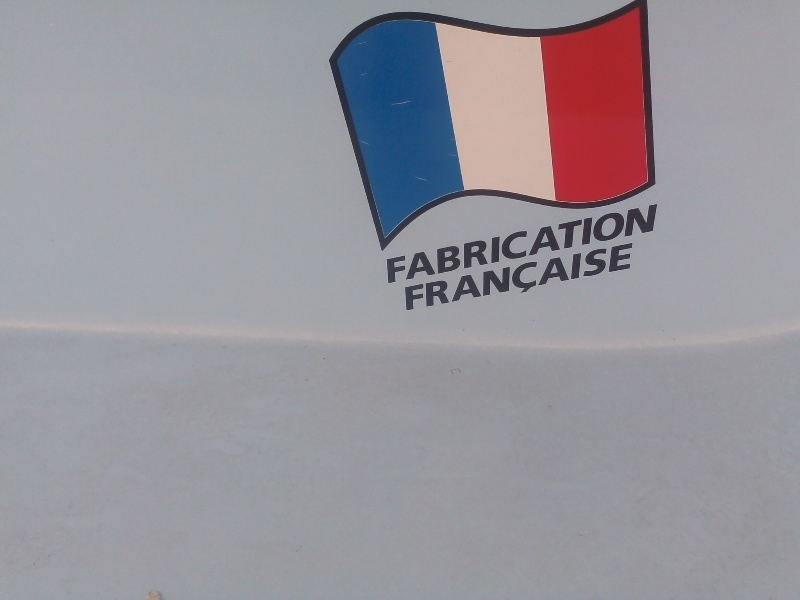text: (401, 203, 416, 284), (417, 203, 432, 284), (433, 203, 448, 284), (449, 203, 464, 284), (465, 203, 480, 284), (481, 203, 496, 284), (497, 203, 512, 284), (513, 203, 528, 284), (529, 203, 544, 284), (545, 203, 560, 284), (561, 203, 576, 284), (577, 203, 592, 284), (593, 203, 608, 284), (609, 203, 624, 284), (625, 203, 640, 284), (641, 203, 656, 284), (386, 203, 400, 284), (417, 242, 432, 316), (433, 242, 448, 316), (449, 242, 464, 316), (465, 242, 480, 316), (481, 242, 496, 316), (497, 242, 512, 316), (513, 242, 528, 316), (529, 242, 544, 316), (545, 242, 560, 316), (561, 242, 576, 316), (577, 242, 592, 316), (593, 242, 608, 316), (609, 242, 624, 316), (406, 242, 416, 316), (625, 242, 633, 316), (657, 203, 659, 284)
